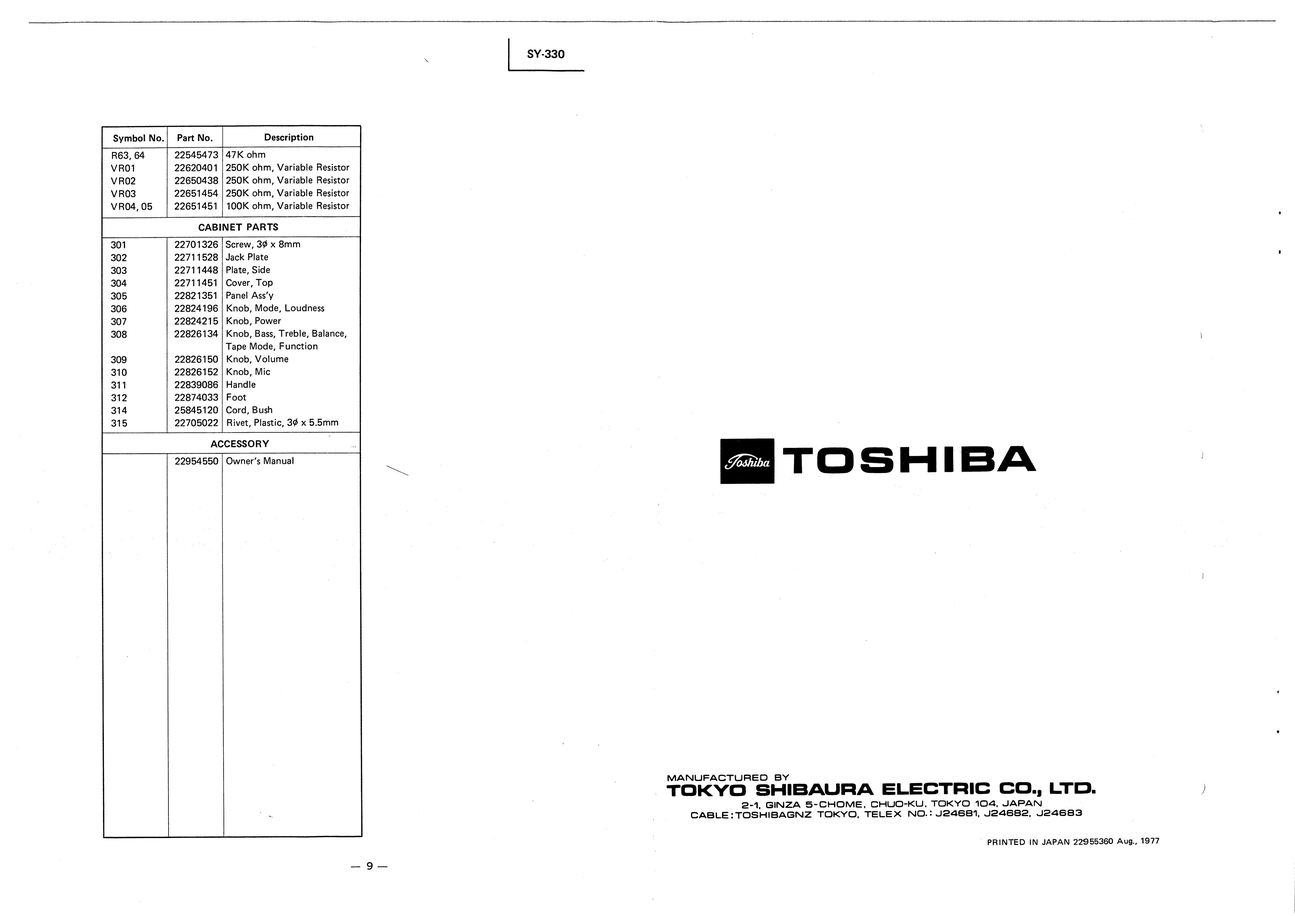R63_64: (111, 149, 146, 161)
VR01: (110, 163, 139, 173)
VR02: (109, 174, 140, 188)
VR03: (109, 187, 139, 199)
VR04_05: (108, 201, 155, 212)
